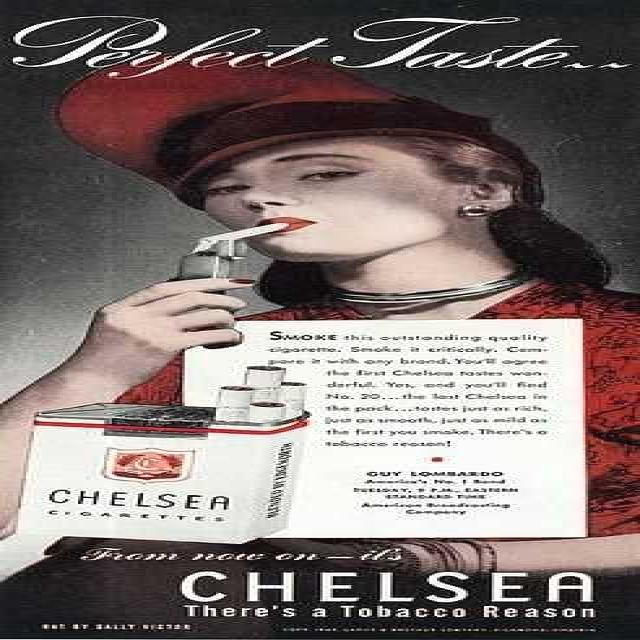Smooking: (183, 222, 298, 249)
